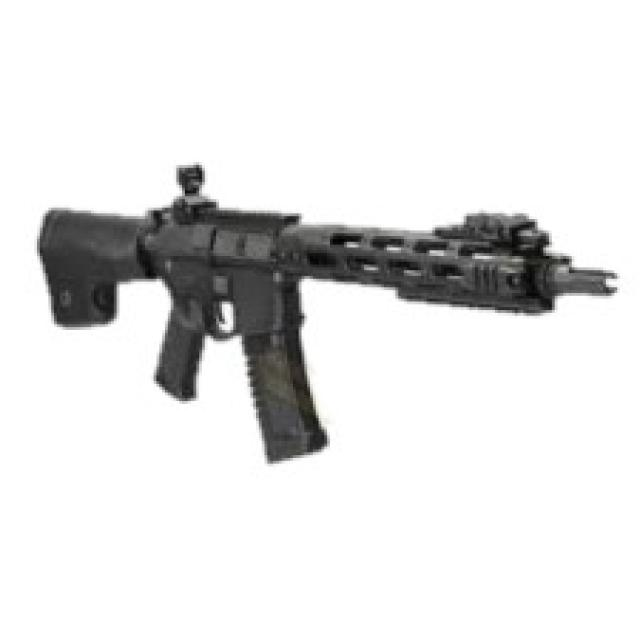rifle: (17, 150, 624, 470)
